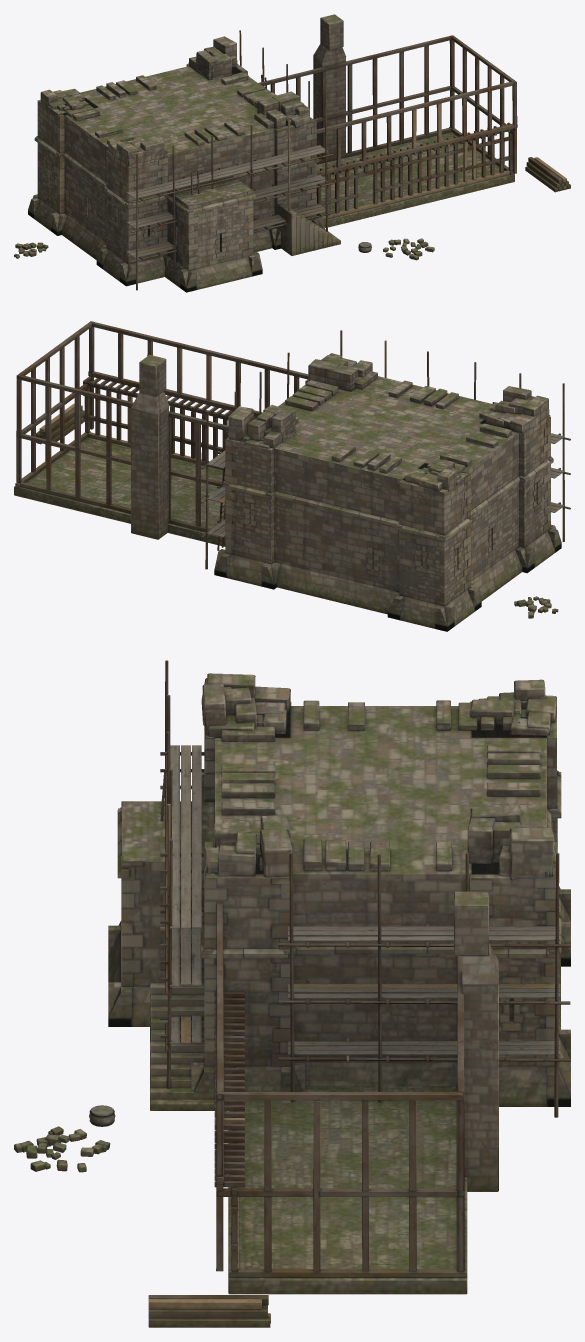
File: town_hall_build2.glb
3 views of the same model, one above another, from view 1: azimuth 30°, elevation 25°; view 2: azimuth 150°, elevation 25°; view 3: azimuth 270°, elevation 25° (orthographic). The views are drawn at different scales.
Visible parts, largest first — view 1: town_hall_build2_LOD0; view 2: town_hall_build2_LOD0; view 3: town_hall_build2_LOD0.
Boxes of the visible parts, x1,y1,x2,y2 form: town_hall_build2_LOD0: (14,14,570,292); town_hall_build2_LOD0: (14,321,570,631); town_hall_build2_LOD0: (14,660,570,1327).
Size of what is drawn, in the model's own units: 32.78 by 9.46 by 16.78.
1 material, 1 textured.
